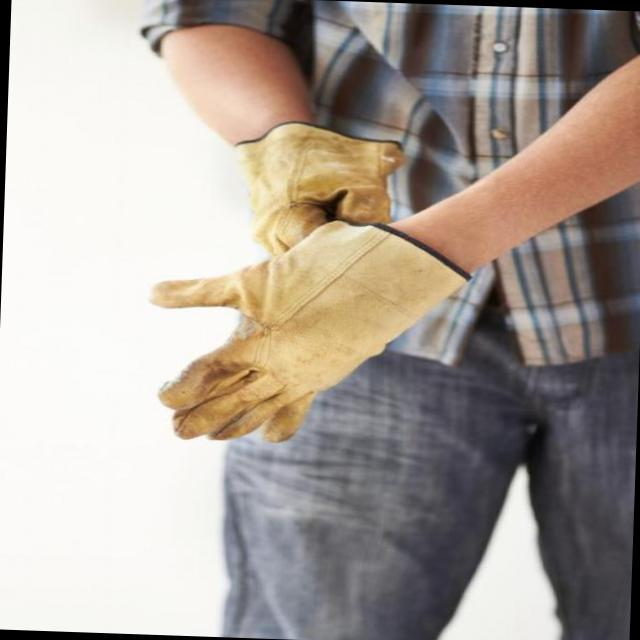Gloves: (136, 264, 502, 453), (238, 120, 426, 254)
